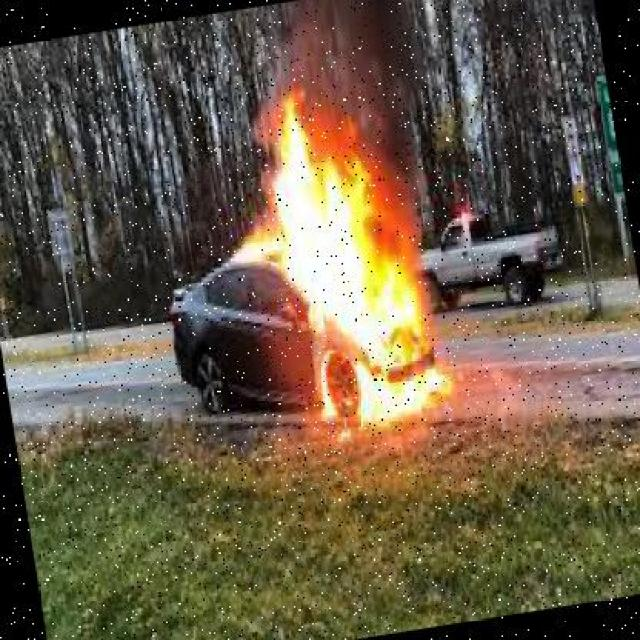fire: (228, 84, 475, 450)
